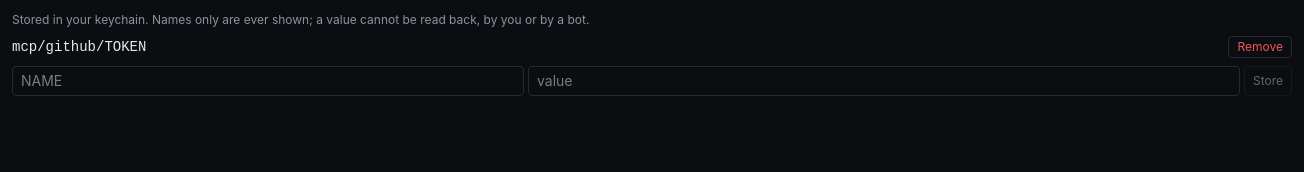
Test: SecretsPanel › removes one
The width and height of the screenshot is (1304, 172).
Click the button "Remove": (1260, 47) [1228,36,1292,58]
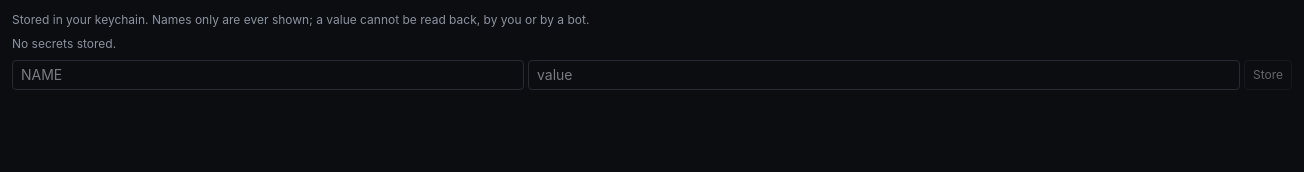
Check: the text "No secrets stored." is shown, box [12,36,116,51]
